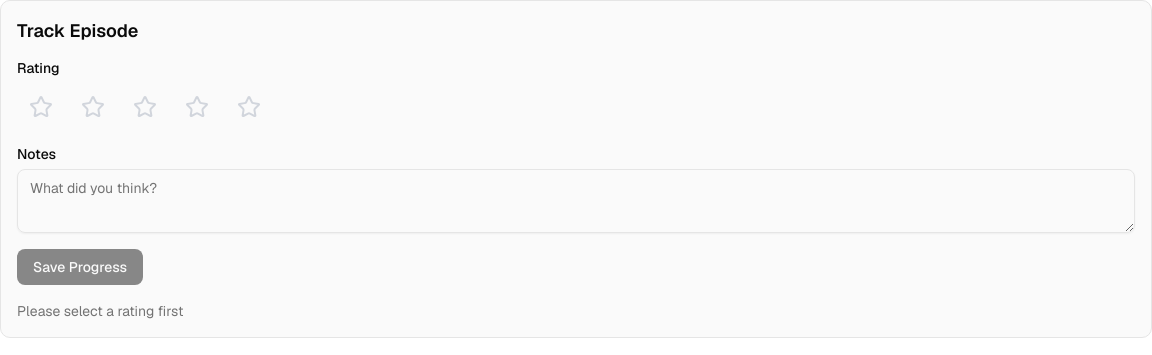
EpisodeTracker › form submission › should enable save button when rating is selected
Click the button named "rate 3 of 5" at (145, 107), box [121,83,169,131]
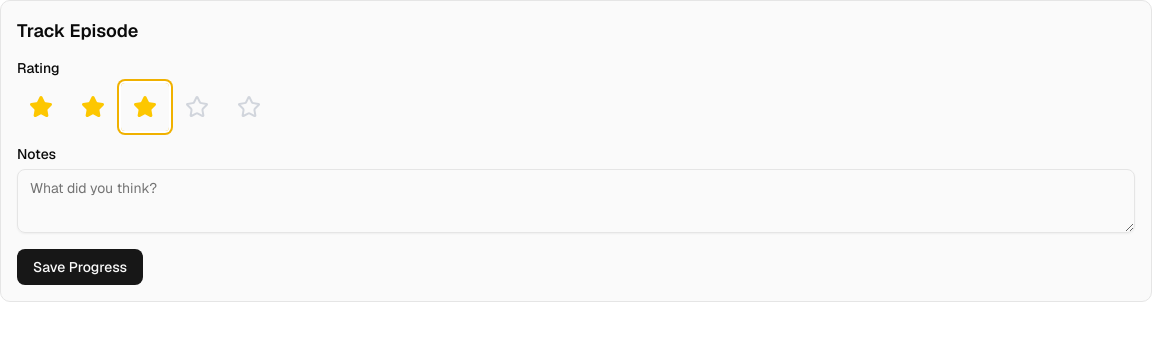
Expected: the button "Save Progress" is enabled, [17,249,143,285]
